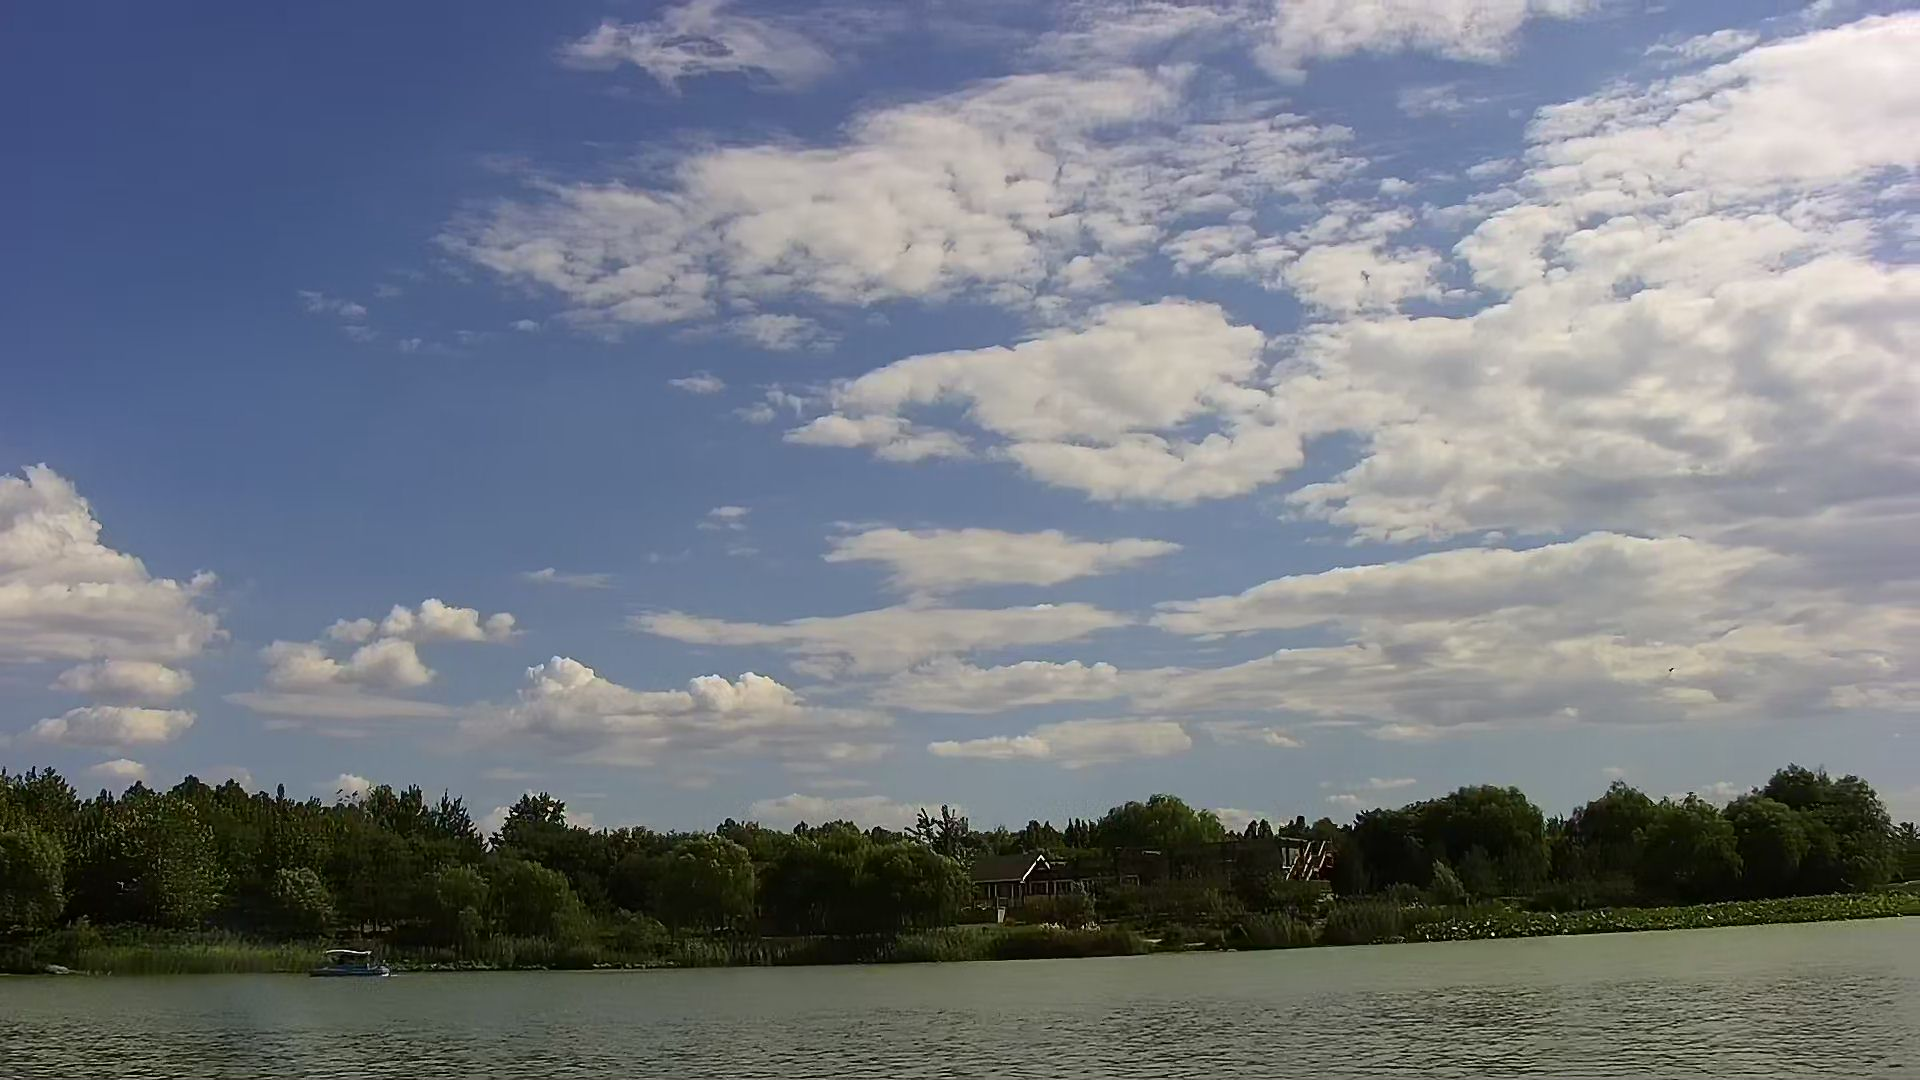boat: (305, 942, 397, 985)
